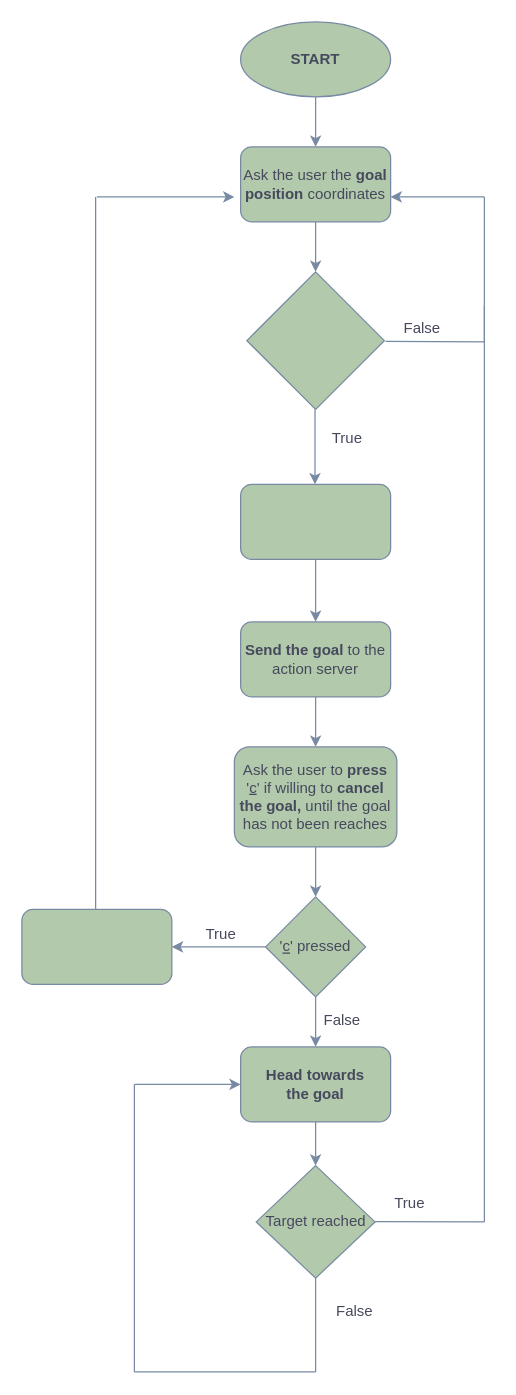
Image size: 516x1395. Some labels were removed from this diagram. The centre of each missing label's shape, as x and y in pixels:
"Cancel the goal" goes at (96,946).
"Generate the goal message" goes at (315,521).
"Valid input (i.e. numbers)" goes at (315,340).
